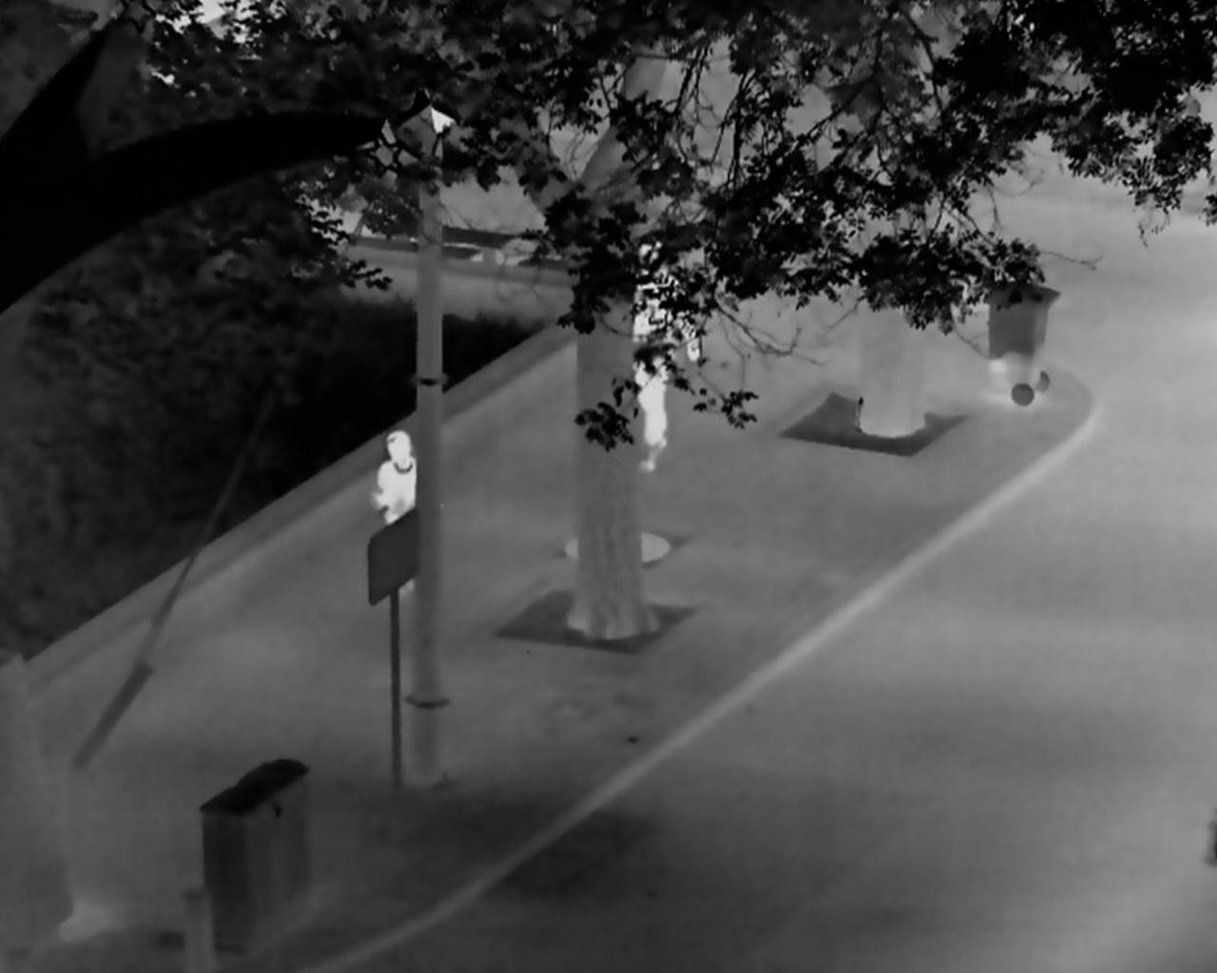person: (633, 237, 703, 473), (370, 428, 418, 593)
